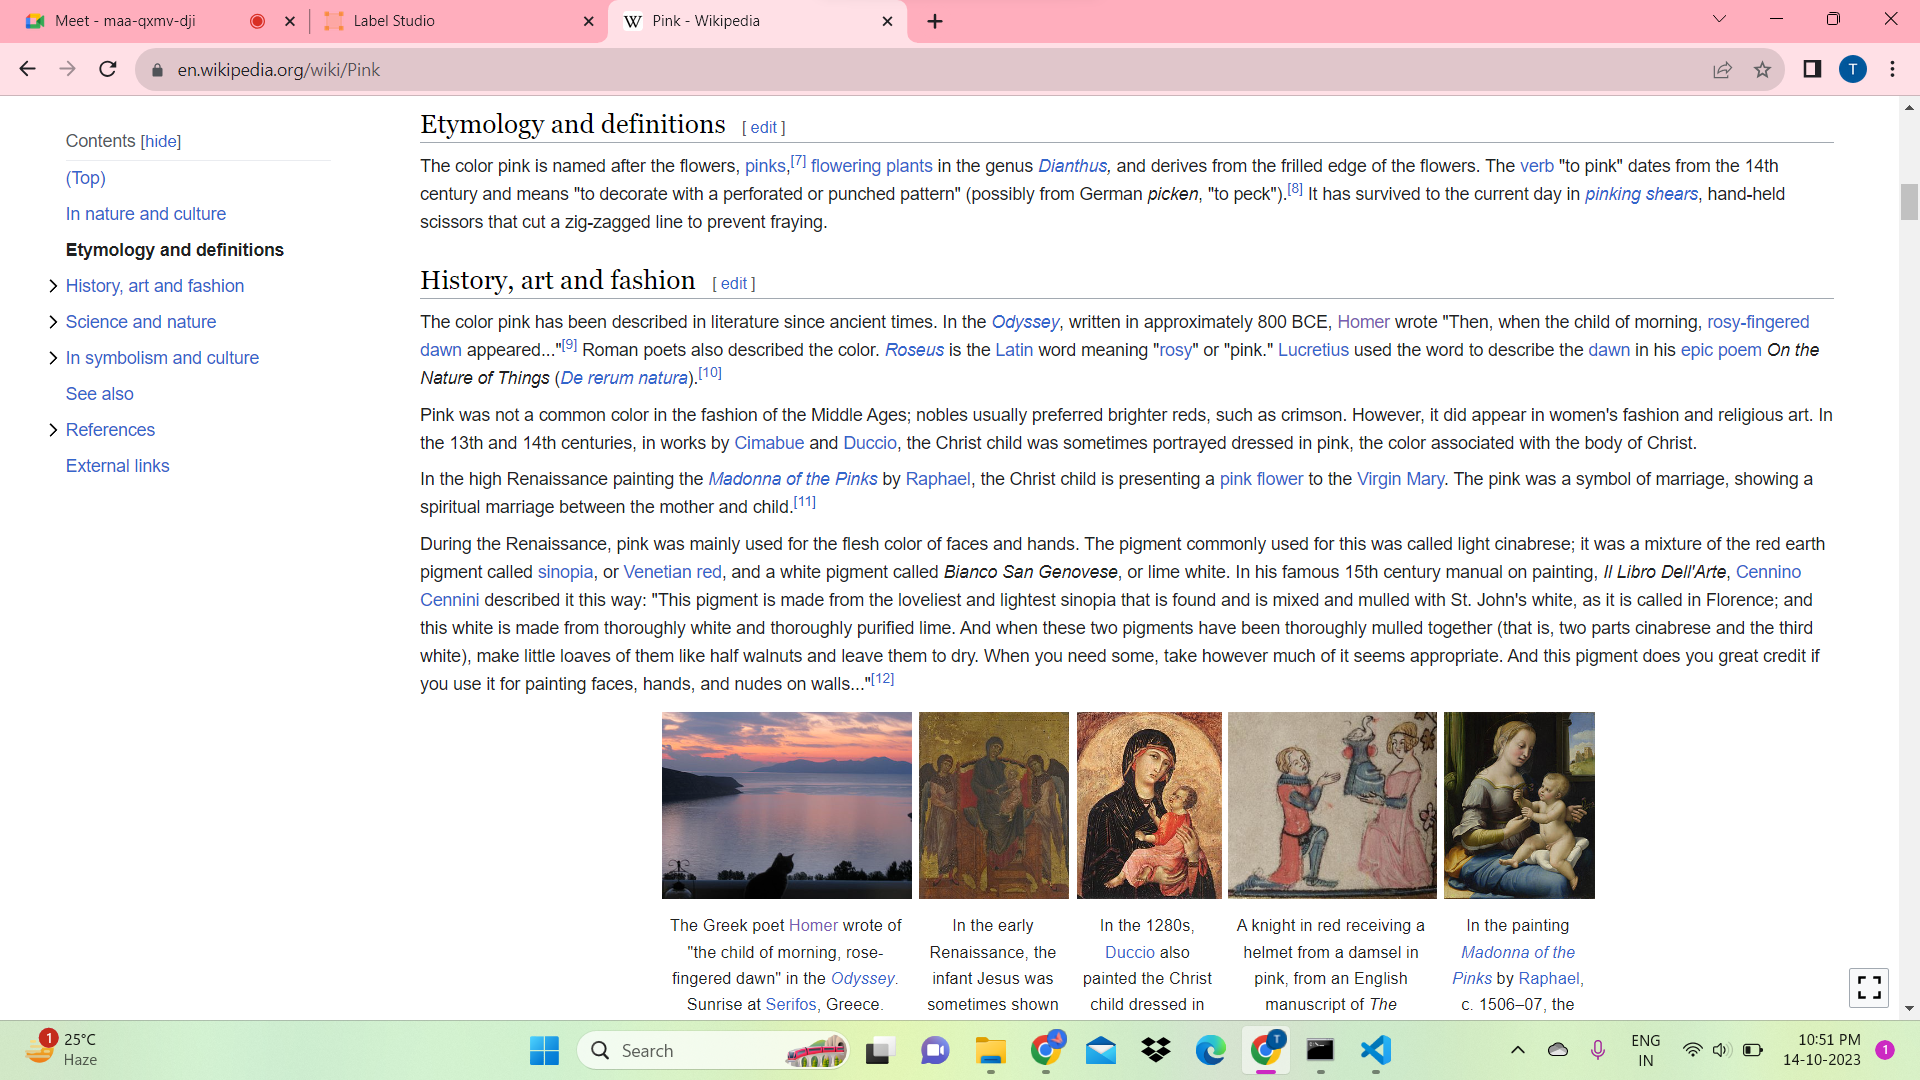Image: (654, 703, 910, 902), (1224, 705, 1437, 902), (1441, 703, 1598, 903), (919, 705, 1076, 903), (1081, 703, 1218, 898)
Paragraph: (406, 525, 1828, 699), (411, 306, 1836, 393), (410, 153, 1816, 233), (407, 397, 1836, 459), (410, 464, 1829, 518), (50, 227, 289, 485), (662, 906, 915, 1022), (1224, 913, 1431, 1014), (414, 88, 750, 149), (1449, 916, 1601, 1022), (927, 913, 1064, 1018), (410, 251, 702, 299), (1089, 910, 1208, 1018), (61, 116, 200, 160)
